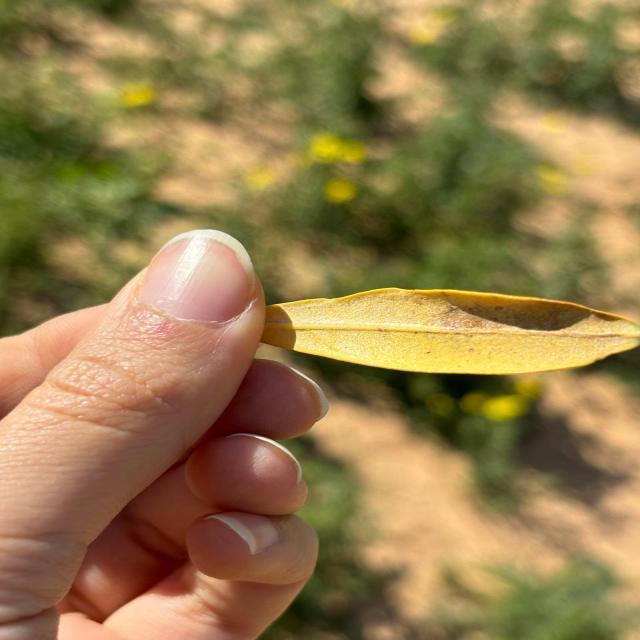OlivePeacockSpot: (262, 288, 640, 375)
